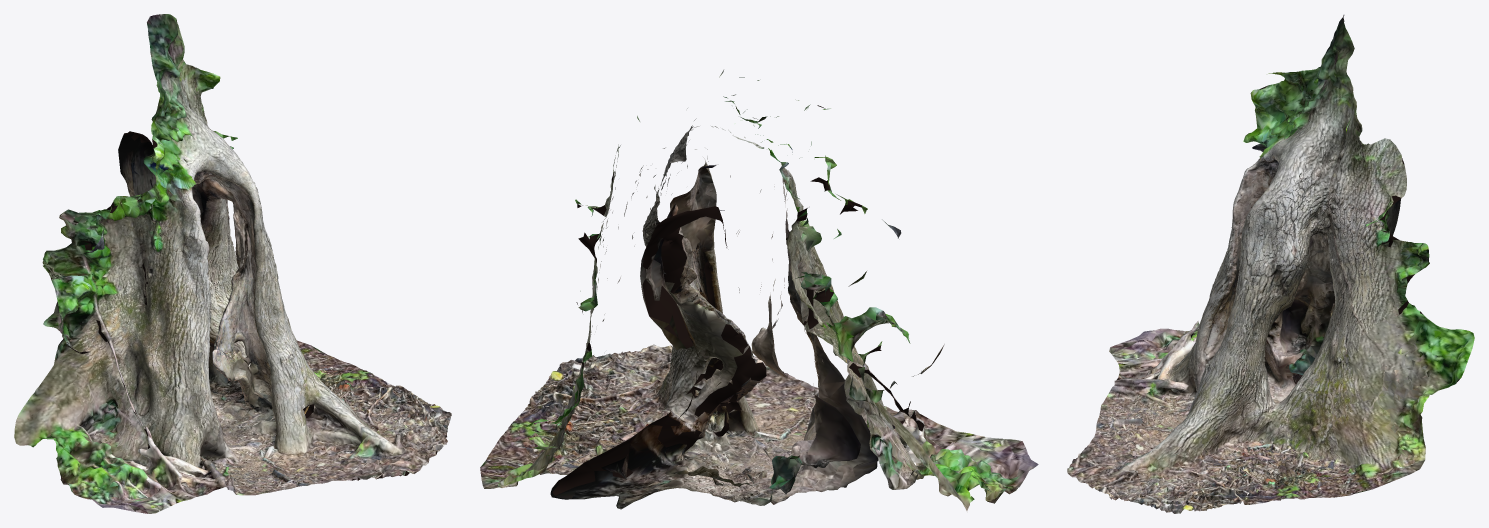
Rendered from stump_hollow.glb.
3 views of the same model, side by side, from view 1: azimuth 30°, elevation 25°; view 2: azimuth 150°, elevation 25°; view 3: azimuth 270°, elevation 25° (orthographic). The views are drawn at different scales.
Visible parts, largest first — view 1: stump_hollow; view 2: stump_hollow; view 3: stump_hollow.
Boxes of the visible parts, x1=… form: stump_hollow: x1=14, y1=14, x2=451, y2=513; stump_hollow: x1=480, y1=70, x2=1038, y2=510; stump_hollow: x1=1067, y1=15, x2=1474, y2=513.
Bounding box in the file's own units: 10.96 × 11 × 10.11.
6 materials, 6 textured.
